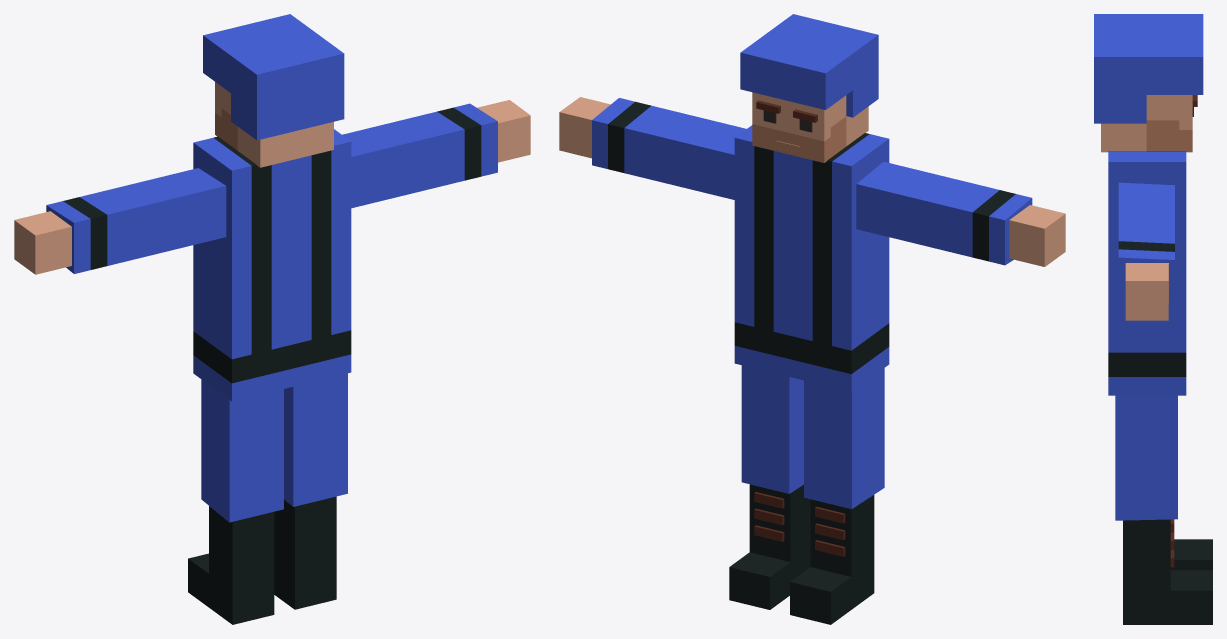
The model's file is voxel_character.glb.
3 renders of one model, left to right at view 1: azimuth 30°, elevation 25°; view 2: azimuth 150°, elevation 25°; view 3: azimuth 270°, elevation 25°, orthographic. The views are drawn at different scales.
Visible parts, largest first — view 1: center_body, head, right_arm, left_arm, right_upper_leg, right_lower_leg, left_upper_leg, left_lower_leg, right_wrist, left_wrist; view 2: center_body, head, right_arm, left_arm, right_upper_leg, right_lower_leg, left_lower_leg, left_upper_leg, right_wrist, left_wrist; view 3: head, center_body, left_upper_leg, left_lower_leg, left_arm, left_wrist, right_lower_leg.
Boxes of the visible parts, x1=… form: center_body: x1=193, y1=129, x2=351, y2=401; head: x1=203, y1=14, x2=344, y2=167; right_arm: x1=46, y1=168, x2=226, y2=273; left_arm: x1=342, y1=103, x2=497, y2=208; right_upper_leg: x1=201, y1=379, x2=283, y2=522; right_lower_leg: x1=188, y1=506, x2=274, y2=624; left_upper_leg: x1=284, y1=373, x2=347, y2=506; left_lower_leg: x1=274, y1=496, x2=336, y2=609; right_wrist: x1=14, y1=211, x2=71, y2=274; left_wrist: x1=477, y1=100, x2=530, y2=162; center_body: x1=734, y1=125, x2=889, y2=391; head: x1=740, y1=14, x2=878, y2=162; right_arm: x1=856, y1=161, x2=1032, y2=265; left_arm: x1=592, y1=98, x2=746, y2=199; right_upper_leg: x1=804, y1=368, x2=884, y2=508; right_lower_leg: x1=790, y1=495, x2=874, y2=624; left_lower_leg: x1=729, y1=484, x2=810, y2=609; left_upper_leg: x1=741, y1=365, x2=803, y2=493; right_wrist: x1=1009, y1=205, x2=1065, y2=266; left_wrist: x1=559, y1=97, x2=610, y2=158; head: x1=1094, y1=14, x2=1203, y2=152; center_body: x1=1108, y1=151, x2=1186, y2=395; left_upper_leg: x1=1115, y1=392, x2=1177, y2=520; left_lower_leg: x1=1123, y1=519, x2=1212, y2=624; left_arm: x1=1118, y1=182, x2=1174, y2=309; left_wrist: x1=1125, y1=263, x2=1168, y2=320; right_lower_leg: x1=1170, y1=539, x2=1212, y2=570.
Size of the model in its own units: 0.8793 by 0.9456 by 0.1805.
Materials: 4 (4 with a texture image).
